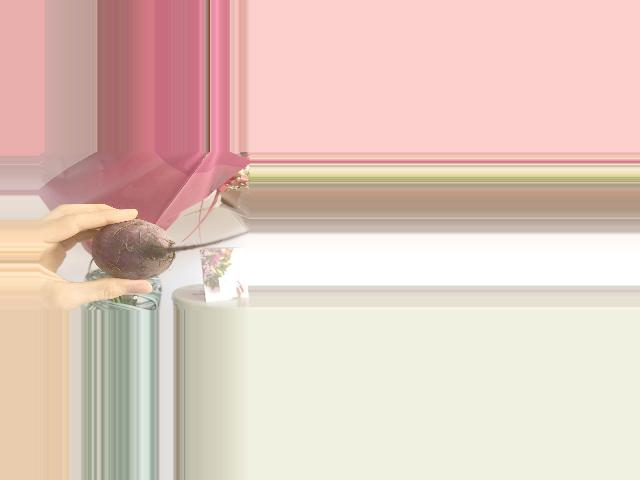beet: (89, 219, 251, 280)
